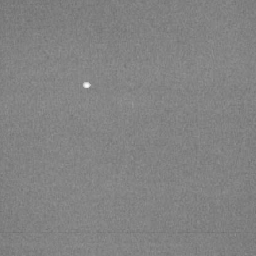Target: (80, 80, 91, 89)
